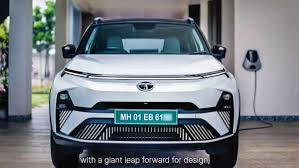Tata Nexon: (48, 15, 240, 168)
